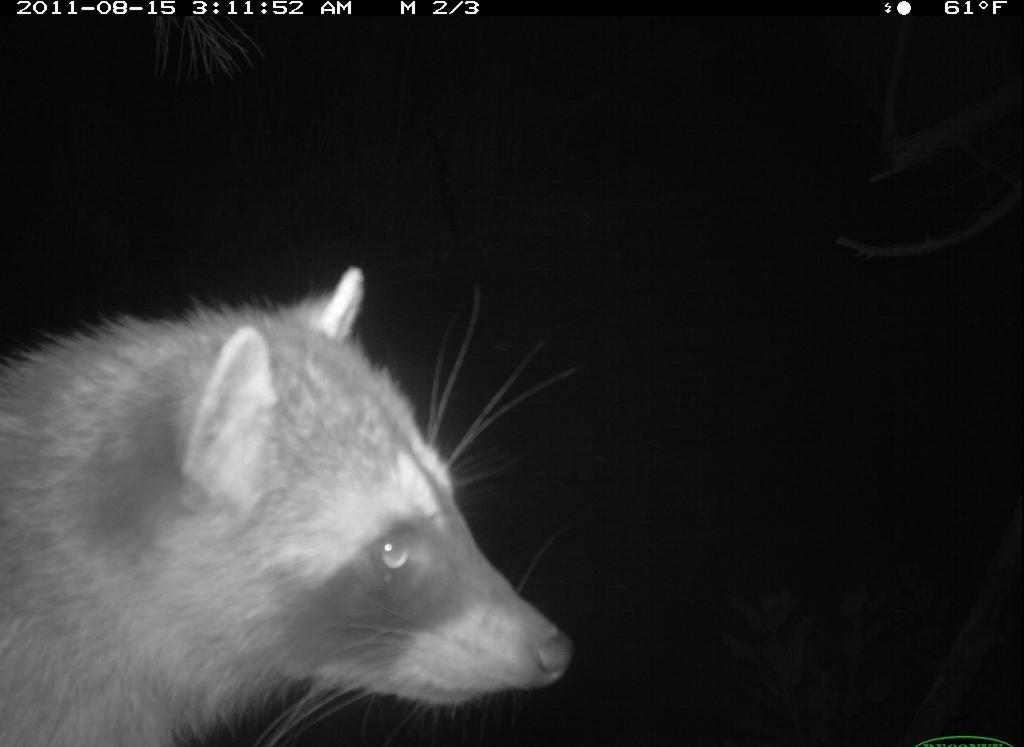raccoon: (1, 253, 591, 747)
